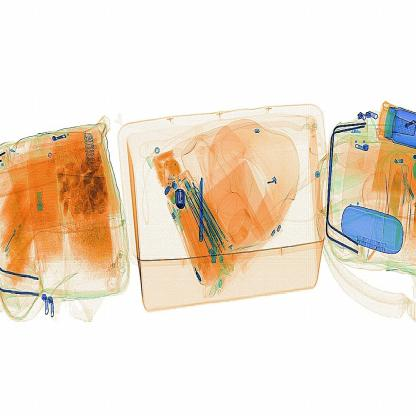pliers: (193, 170, 213, 249)
